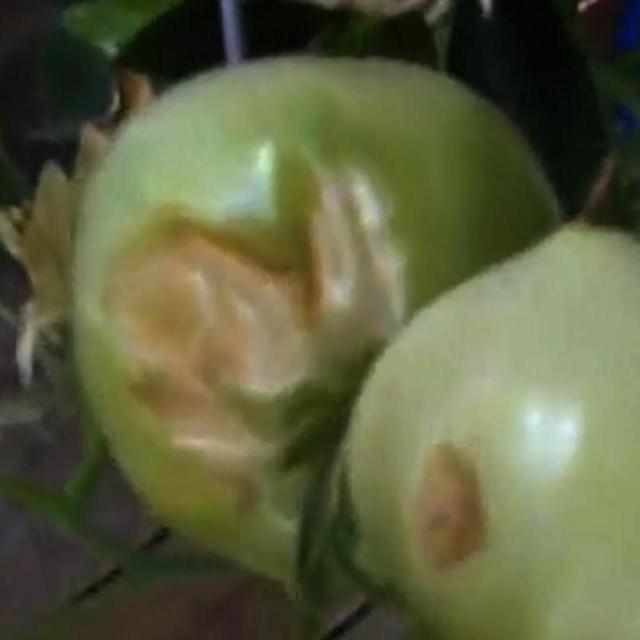Sunscald Fruit: (69, 112, 299, 337)
